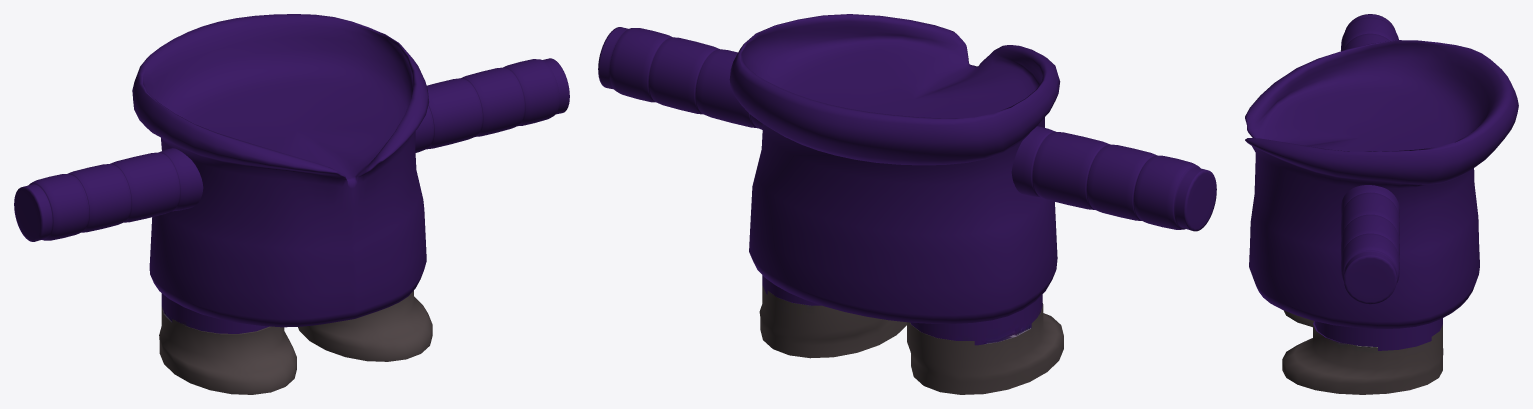
The model's file is hoodie.glb.
3 renders of one model, left to right at view 1: azimuth 30°, elevation 25°; view 2: azimuth 150°, elevation 25°; view 3: azimuth 270°, elevation 25°, orthographic. The views are drawn at different scales.
Parts seen in each view (by area): view 1: AO_hoodi; view 2: AO_hoodi; view 3: AO_hoodi.
Boxes of the visible parts, left/top/right/bottom form: AO_hoodi: left=14, top=14, right=569, bottom=394; AO_hoodi: left=598, top=14, right=1216, bottom=394; AO_hoodi: left=1245, top=14, right=1518, bottom=394.
Bounding box in the file's own units: 1.09 × 0.5268 × 0.5194.
Materials: 1 (1 with a texture image).
